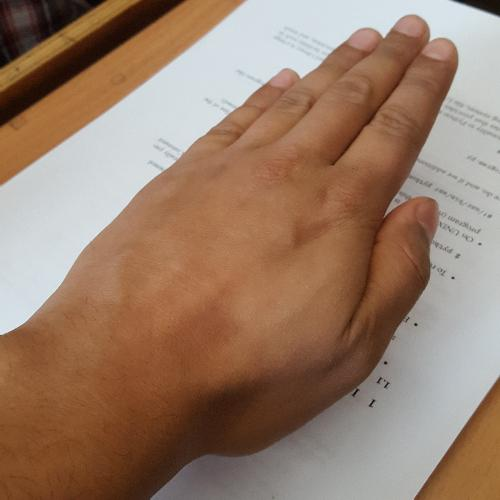paper: (40, 8, 466, 464)
